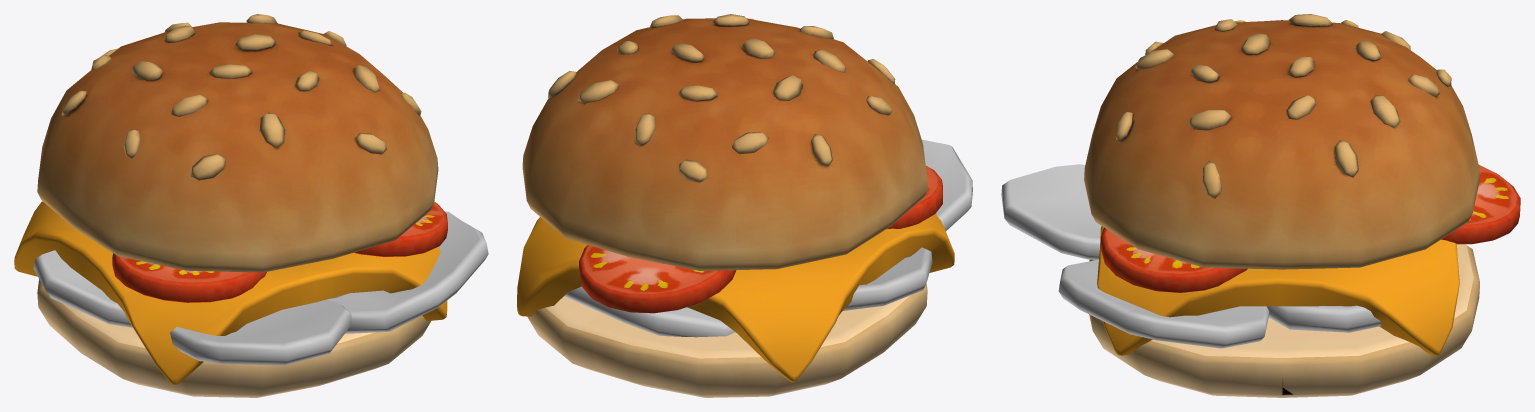
The model's file is Tomato_lettuce_cheese_burger.fbx.
3 renders of one model, left to right at view 1: azimuth 30°, elevation 25°; view 2: azimuth 150°, elevation 25°; view 3: azimuth 270°, elevation 25°, orthographic.
Visible parts, largest first — view 1: m_ingredients_bun_lid_01_0, m_recipe_cheese_lettuce_burger_01_2, m_recipe_lettuce_tomato_burger_01_3, m_ingredients_bun_base_01_0, m_recipe_lettuce_tomato_burger_01_0; view 2: m_ingredients_bun_lid_01_0, m_recipe_cheese_lettuce_burger_01_2, m_ingredients_bun_base_01_0, m_recipe_lettuce_tomato_burger_01_3, m_recipe_lettuce_tomato_burger_01_0; view 3: m_ingredients_bun_lid_01_0, m_ingredients_bun_base_01_0, m_recipe_cheese_lettuce_burger_01_2, m_recipe_lettuce_tomato_burger_01_3, m_recipe_lettuce_tomato_burger_01_0.
Boxes of the visible parts, <box> form: m_ingredients_bun_lid_01_0: <box>37,14,438,272</box>; m_recipe_cheese_lettuce_burger_01_2: <box>14,201,447,385</box>; m_recipe_lettuce_tomato_burger_01_3: <box>33,211,488,365</box>; m_ingredients_bun_base_01_0: <box>37,279,431,397</box>; m_recipe_lettuce_tomato_burger_01_0: <box>112,201,447,302</box>; m_ingredients_bun_lid_01_0: <box>522,14,927,270</box>; m_recipe_cheese_lettuce_burger_01_2: <box>517,213,954,382</box>; m_ingredients_bun_base_01_0: <box>527,283,927,397</box>; m_recipe_lettuce_tomato_burger_01_3: <box>564,139,972,337</box>; m_recipe_lettuce_tomato_burger_01_0: <box>579,166,942,313</box>; m_ingredients_bun_lid_01_0: <box>1084,14,1479,269</box>; m_ingredients_bun_base_01_0: <box>1089,244,1479,397</box>; m_recipe_cheese_lettuce_burger_01_2: <box>1097,226,1459,355</box>; m_recipe_lettuce_tomato_burger_01_3: <box>1001,164,1380,348</box>; m_recipe_lettuce_tomato_burger_01_0: <box>1100,165,1520,292</box>.
Size of the model in its own units: 0.7104 by 0.4899 by 0.8185.
